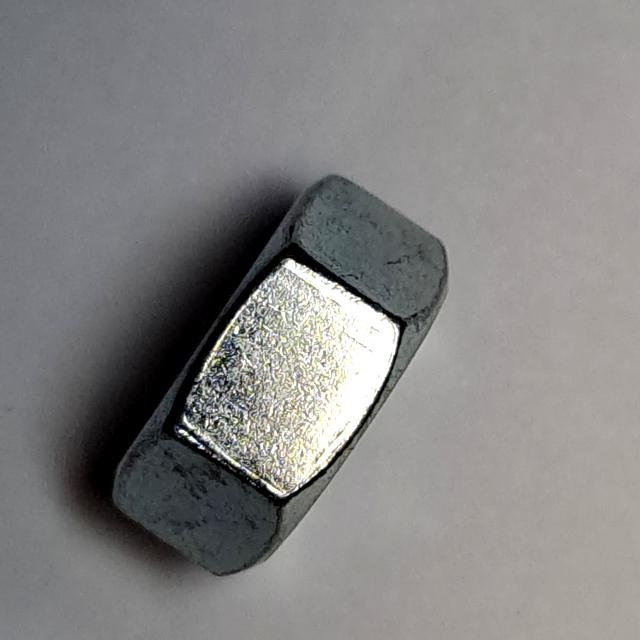Side_Excellent: (91, 153, 497, 595)
